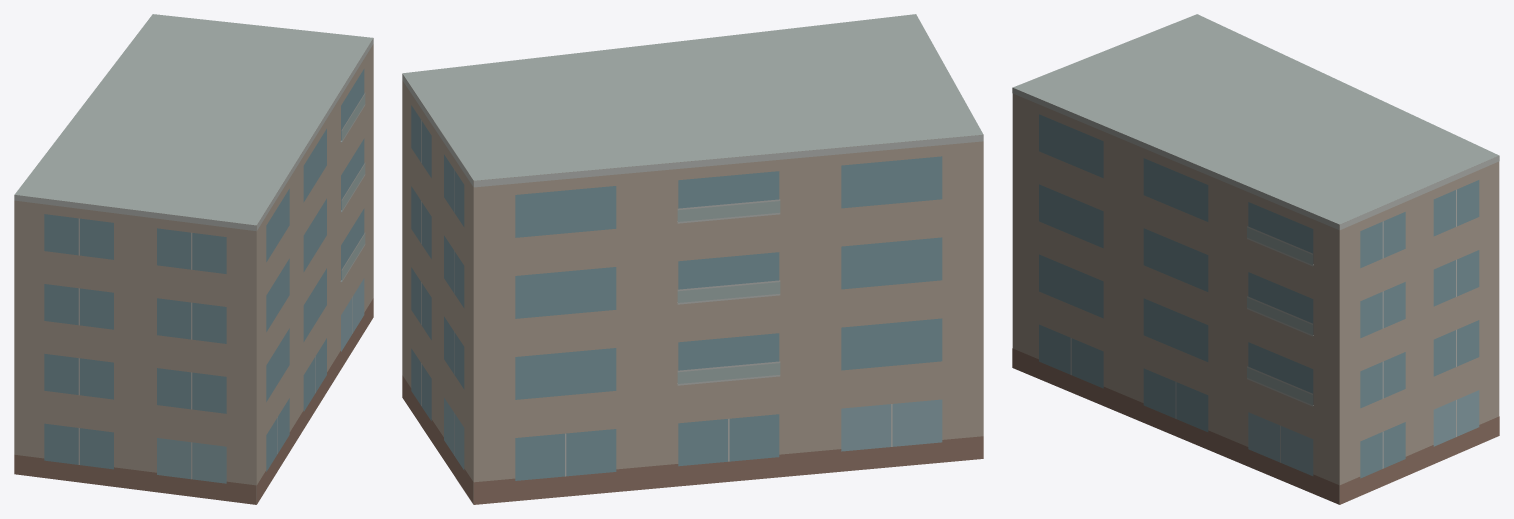
Rendered from survey-upis-32837623.glb.
The picture shows the model from 3 angles, left to right: view 1: azimuth 30°, elevation 25°; view 2: azimuth 150°, elevation 25°; view 3: azimuth 270°, elevation 25°; orthographic projection. The views are drawn at different scales.
Parts seen in each view (by area): view 1: survey-upis-32837623.tmp; view 2: survey-upis-32837623.tmp; view 3: survey-upis-32837623.tmp.
Part boxes in pixels (left/top/right/bottom): survey-upis-32837623.tmp: left=14, top=14, right=373, bottom=504; survey-upis-32837623.tmp: left=402, top=14, right=983, bottom=504; survey-upis-32837623.tmp: left=1012, top=14, right=1499, bottom=504.
Bounding box in the file's own units: 19.02 × 11.8 × 18.58.
